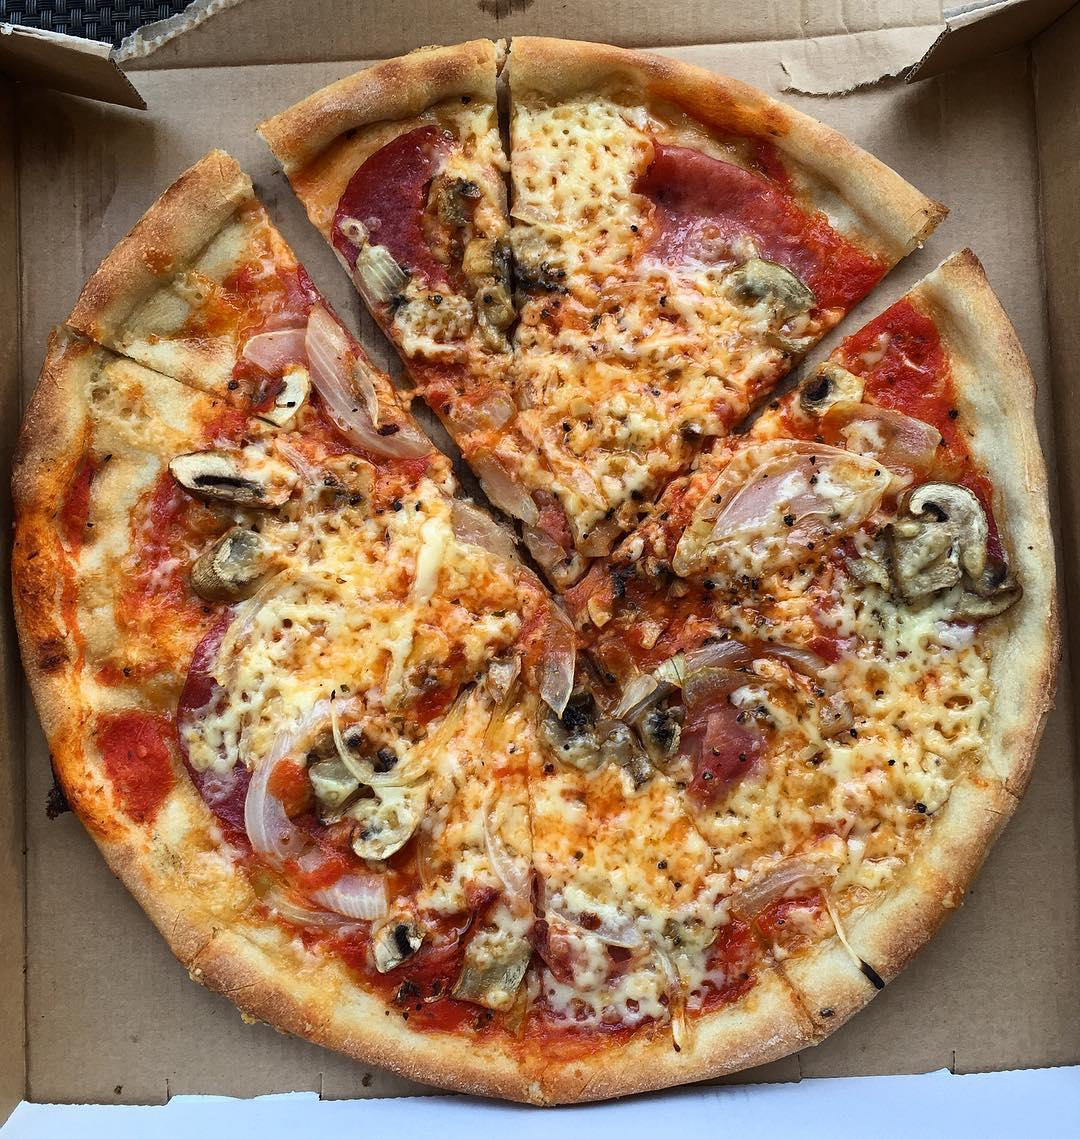Mushroom: (891, 473, 1018, 623), (159, 439, 303, 520), (451, 903, 541, 1016), (714, 259, 827, 332), (186, 519, 280, 605), (462, 241, 523, 359), (537, 685, 610, 776), (621, 674, 686, 762), (254, 358, 313, 437), (800, 356, 866, 421), (367, 904, 426, 973)
Onion: (299, 305, 446, 468), (242, 695, 360, 871), (710, 453, 893, 548), (819, 394, 941, 479), (323, 699, 436, 790), (725, 847, 842, 927), (672, 640, 773, 731), (763, 642, 859, 733), (336, 214, 411, 325), (473, 782, 532, 901), (646, 942, 697, 1057), (299, 867, 395, 927), (536, 598, 580, 720), (245, 896, 357, 943), (471, 451, 542, 523)
Pizza: (0, 35, 1065, 1114)
